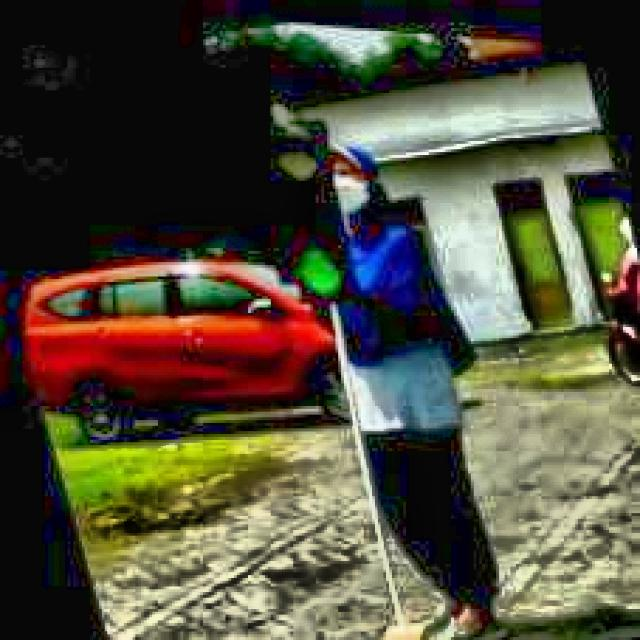green: (237, 107, 372, 310)
